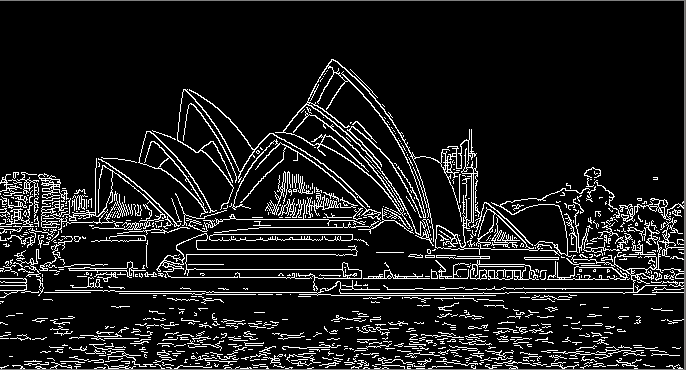opera house: (85, 66, 577, 267)
